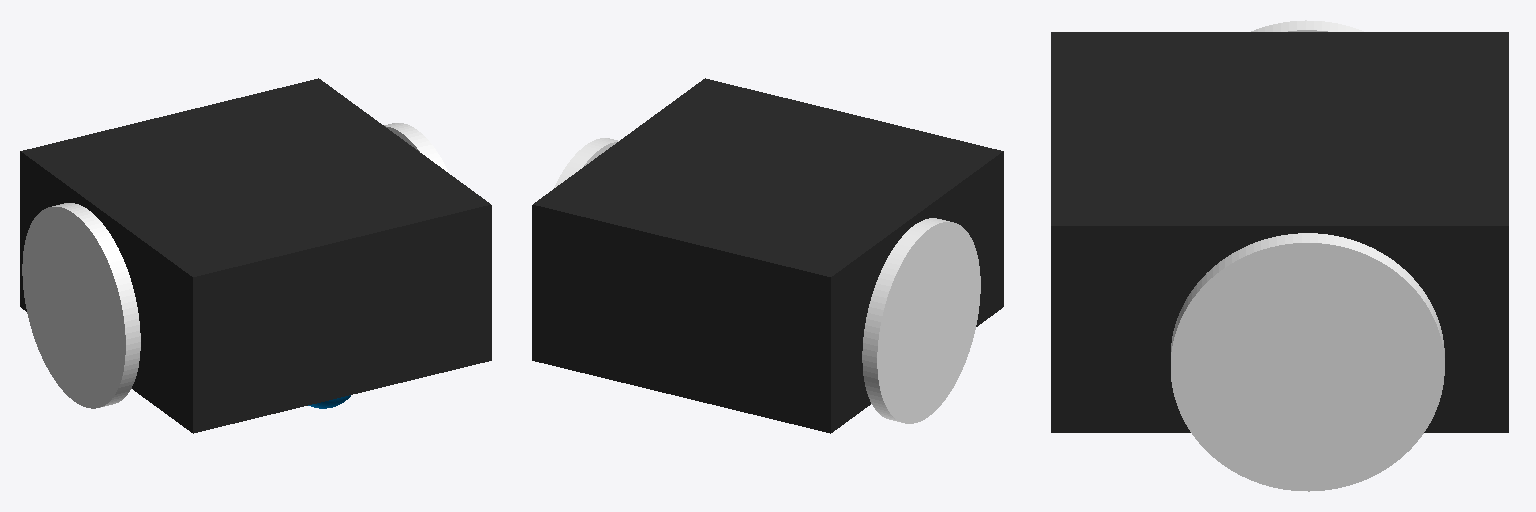
URDF robot description (bot_description):
<?xml version="1.0"?>

<robot name="bot_description">


    <link name="base_footprint"/>
    <link name="base">
      <inertial>
        <mass value="2" />
        <origin xyz="0 0 0.04" rpy="0 0 0" />
        <inertia ixx="0.00355" iyy="0.01265" izz="0.013832" ixy="0.0" ixz="0.0" iyz="0.0" />
      </inertial>

      <visual>
        <geometry>
            <mesh filename="package://bot_description/meshes/base_link.stl"/>
        </geometry>
        <material name="gray">
          <color rgba=".2 .2 .2 1" />
        </material>
      </visual>
  
      <collision>
        <geometry>
          <mesh filename="package://bot_description/meshes/base_link.stl"/>
      </geometry>
        <contact_coefficients mu="1" mu2="1" kp="1e+13.0" kd="1.0"/>
      </collision>


    </link>
   <joint name="base_joint" type="fixed">
      <parent link="base_footprint"/>
      <child link="base"/>
      <origin rpy="0 0 0" xyz="0 0 0"/>
    </joint>


 <link name="wheel_right">
    <inertial>
      <mass value="0.75"/>
      <inertia ixx="0.001444223" iyy="0.00280875" izz="0.001444223" ixy="0.0" ixz="0.0" iyz="0.0"/>
      <origin/>
    </inertial>
  
      <visual>
        
        <geometry>
            <mesh filename="package://bot_description/meshes/wheel_r.stl"/>
        </geometry>

        <material name="white">
          <color rgba="1 1 1 1"/>
        </material>
      </visual>
  
      <collision>
        <geometry>
            <mesh filename="package://bot_description/meshes/wheel_r.stl"/>
        </geometry>
        <contact_coefficients mu="0" kp="1000.0" kd="1.0"/>
      </collision>

    </link>
  
    <joint name="wheel_right_joint" type="continuous">
      <origin xyz="-0.11 0.03 0.035  " rpy="0 0.0 0.0"/>
      <parent link="base"/>
      <child link="wheel_right"/>
      <axis xyz="0.0 -1.0 0"/>
    </joint>
  
    <link name="wheel_left">
      <inertial>
        <mass value="0.75"/>
        <inertia ixx="0.001444223" iyy="0.00280875" izz="0.001444223" ixy="0.0" ixz="0.0" iyz="0.0" />
        <origin/>
      </inertial>
  
      <visual>
        
        <geometry>
            <mesh filename="package://bot_description/meshes/wheel_l.stl"/>
        </geometry>
        
        <material name="white">
          <color rgba="1 1 1 1"/>
        </material>
      </visual>
  
      <collision>
        <geometry>
            <mesh filename="package://bot_description/meshes/wheel_l.stl"/>
        </geometry>
        <contact_coefficients mu="0" kp="1000.0" kd="1.0"/>
      </collision>
    </link>
  
    <joint name="wheel_left_joint" type="continuous">
      <origin xyz="0.11 0.03 0.035" rpy="0 0.0 3.14"/>
      <parent link="base"/>
      <child link="wheel_left"/>
      <axis xyz="0.0 1 0"/>
  
    </joint>
  
  
    <link name="caster">

      <inertial>
        <mass value="0.75"/>
        <inertia ixx="0.0001295" iyy="0.0001295" izz="0.000199322" ixy="0.0" ixz="0.0" iyz="0.0" />
        <origin/>
      </inertial>
  
      <visual>
        <geometry>
          <mesh filename="package://bot_description/meshes/front_caster.stl"/>
      </geometry>
        <material name="black" />
      </visual>
  
      <collision>
        <geometry>
          <mesh filename="package://bot_description/meshes/front_caster.stl"/>
      </geometry>
        <contact_coefficients mu="0" kp="1000.0" kd="1.0"/>
      </collision>
    </link>
  
    <joint name="caster_joint" type="continuous">
      <origin xyz="0 -0.06 -0.01" rpy="0.0 0.0 0.0"/>
      <axis xyz="0 0 1" />
      <parent link="base"/>
      <child link="caster"/>
    </joint>  


  <link name="camera_link">
  </link>

  <joint name="camera_joint" type="fixed">
    <origin xyz="-0.16 0.0 0.08" rpy="0 0.0 3.14"/>
    <parent link="base"/>
    <child link="camera_link"/>
    <axis xyz="0.0 0.0 1.0"/>
  
</joint>

  <link name="hokuyo_link">
  </link>

  <joint name="lidar_joint" type="fixed">
    <origin xyz="0.2 0 0.1" rpy="0 0 0"/>
    <parent link="base"/>
    <child link="hokuyo_link"/>
  </joint>




    <gazebo reference="camera_link">
        <sensor type="camera" name="Botcamera">
          <update_rate>30.0</update_rate>
          <camera name="head">
            <horizontal_fov>1.3962634</horizontal_fov>
            <image>
              <width>800</width>
              <height>800</height>
              <format>R8G8B8</format>
            </image>
            <clip>
              <near>0.02</near>
              <far>300</far>
            </clip>
            <noise>
              <type>gaussian</type>
              <mean>0.0</mean>
              <stddev>0.007</stddev>
            </noise>
          </camera>
          <plugin name="camera_controller" filename="libgazebo_ros_camera.so">
            <alwaysOn>true</alwaysOn>
            <updateRate>0.0</updateRate>
            <cameraName>/Botcamera</cameraName>
            <imageTopicName>image_raw</imageTopicName>
            <cameraInfoTopicName>camera_info</cameraInfoTopicName>
            <frameName>camera_link</frameName>
            <hackBaseline>0.07</hackBaseline>
          </plugin>
        </sensor>
        <material>Gazebo/Blue</material>
      </gazebo>

    <!-- <gazebo reference="lidar_link">
        <sensor type="ray" name="lidar_sensor">
          <pose>0 0 0 0 0 0 </pose>
          <visualize>true</visualize>
          <update_rate>10</update_rate>
          <ray>
            <scan>
             <horizontal>
              <samples>720</samples>
              <resolution>1</resolution>
              <min_angle>-3.14</min_angle>
              <max_angle>-3.14</max_angle>
             </horizontal>
            </scan>

            <range>
              <min>0.1</min>
              <max>30.0</max>
              <resolution>0.01</resolution>

            </range>
          </ray>

          <plugin name="lidar" filename="libgazebo_ros_ray_sensor.so">
          </plugin>

        </sensor>
      </gazebo> -->

  <gazebo reference="hokuyo_link">
    <sensor type="gpu_ray" name="head_hokuyo_sensor">
      <pose>0 0 0 0 0 0</pose>
      <visualize>true</visualize>
      <update_rate>40</update_rate>
      <ray>
        <scan>
          <horizontal>
            <samples>720</samples>
            <resolution>1</resolution>
            <min_angle>-1.570796</min_angle>
            <max_angle>1.570796</max_angle>
          </horizontal>
        </scan>
        <range>
          <min>0.10</min>
          <max>30.0</max>
          <resolution>0.01</resolution>
        </range>
        <noise>
          <type>gaussian</type>
          <!-- Noise parameters based on published spec for Hokuyo laser
               achieving "+-30mm" accuracy at range < 10m.  A mean of 0.0m and
               stddev of 0.01m will put 99.7% of samples within 0.03m of the true
               reading. -->
          <mean>0.0</mean>
          <stddev>0.01</stddev>
        </noise>
      </ray>
      <plugin name="gazebo_ros_head_hokuyo_controller" filename="libgazebo_ros_gpu_laser.so">
        <topicName>/rrbot/laser/scan</topicName>
        <frameName>hokuyo_link</frameName>
      </plugin>
    </sensor>
  </gazebo>




  

    <gazebo>
      <plugin filename="libgazebo_ros_diff_drive.so" name="gazebo_base_controller">
        <odometry_frame>odom</odometry_frame>
        <commandTopic>cmd_vel</commandTopic>
        <publish_odom>true</publish_odom>
        <publish_odom_tf>true</publish_odom_tf>
        <update_rate>15.0</update_rate>
        <left_joint>wheel_left_joint</left_joint>
        <right_joint>wheel_right_joint</right_joint>
        <wheel_separation>0.8</wheel_separation>
        <wheel_diameter>0.3</wheel_diameter>
        <max_wheel_acceleration>0.7</max_wheel_acceleration>
        <robotBaseFrame>base</robotBaseFrame>
  
      </plugin>
    </gazebo>


  <gazebo reference="base">
      <material>Gazebo/Black</material>
    </gazebo>
    <gazebo reference="caster">
      <material>Gazebo/White</material>
    </gazebo>
    
    <gazebo reference="wheel_right">
      <material>Gazebo/Orange</material>
    </gazebo>
    <gazebo reference="wheel_left">
      <material>Gazebo/Orange</material>
    </gazebo>  






  </robot>
  <!-- 
      <collision>
        <geometry>
            <mesh filename="package://bot_description/meshes/wheel_l.stl"/>
        </geometry>
        <contact_coefficients mu="0" kp="1000.0" kd="1.0"/>
      </collision>
    </link>
  
    <joint name="wheel_left_joint" type="continuous">
      <origin xyz="0.11 0.03 0.035" rpy="0 0.0 3.14"/>
      <parent link="base"/>
      <child link="wheel_left"/>
      <axis xyz="0.0 1 0"/>
  
    </joint>
  
  
    <link name="caster">

      <inertial>
        <mass value="0.75"/>
        <inertia ixx="0.0001295" iyy="0.0001295" izz="0.000199322" ixy="0.0" ixz="0.0" iyz="0.0" />
        <origin/>
      </inertial>
  
      <visual>
        <geometry>
          <mesh filename="package://bot_description/meshes/front_caster.stl"/>
      </geometry>
        <material name="black" />
      </visual>
  
      <collision>
        <geometry>
          <mesh filename="package://bot_description/meshes/front_caster.stl"/>
      </geometry>
        <contact_coefficients mu="0" kp="1000.0" kd="1.0"/>
      </collision>
    </link>
  
    <joint name="caster_joint" type="continuous">
      <origin xyz="0 -0.06 -0.01" rpy="0.0 0.0 0.0"/>
      <axis xyz="0 0 1" />
      <parent link="base"/>
      <child link="caster"/>
    </joint>  


  <link name="camera_link">
  </link>

  <joint name="camera_joint" type="fixed">
    <origin xyz="-0.16 0.0 0.08" rpy="0 0.0 3.14"/>
    <parent link="base"/>
    <child link="camera_link"/>
    <axis xyz="0.0 0.0 1.0"/>
  
</joint>


    <gazebo reference="camera_link">
        <sensor type="camera" name="Botcamera">
          <update_rate>30.0</update_rate>
          <camera name="head">
            <horizontal_fov>1.3962634</horizontal_fov>
            <image>
              <width>800</width>
              <height>800</height>
              <format>R8G8B8</format>
            </image>
            <clip>
              <near>0.02</near>
              <far>300</far>
            </clip>
            <noise>
              <type>gaussian</type>
              <mean>0.0</mean>
              <stddev>0.007</stddev>
            </noise>
          </camera>
          <plugin name="camera_controller" filename="libgazebo_ros_camera.so">
            <alwaysOn>true</alwaysOn>
            <updateRate>0.0</updateRate>
            <cameraName>/Botcamera</cameraName>
            <imageTopicName>image_raw</imageTopicName>
            <cameraInfoTopicName>camera_info</cameraInfoTopicName>
            <frameName>camera_link</frameName>
            <hackBaseline>0.07</hackBaseline>
          </plugin>
        </sensor>
        <material>Gazebo/Blue</material>
      </gazebo>




  

    <gazebo>
      <plugin filename="libgazebo_ros_diff_drive.so" name="gazebo_base_controller">
        <odometry_frame>odom</odometry_frame>
        <commandTopic>cmd_vel</commandTopic>
        <publish_odom>true</publish_odom>
        <publish_odom_tf>true</publish_odom_tf>
        <update_rate>15.0</update_rate>
        <left_joint>wheel_left_joint</left_joint>
        <right_joint>wheel_right_joint</right_joint>
        <wheel_separation>0.8</wheel_separation>
        <wheel_diameter>0.3</wheel_diameter>
        <max_wheel_acceleration>0.7</max_wheel_acceleration>
        <robotBaseFrame>base</robotBaseFrame>
  
      </plugin>
    </gazebo>


  <gazebo reference="base">
      <material>Gazebo/Black</material>
    </gazebo>
    <gazebo reference="caster">
      <material>Gazebo/White</material>
    </gazebo>
    
    <gazebo reference="wheel_right">
      <material>Gazebo/Orange</material>
    </gazebo>
    <gazebo reference="wheel_left">
      <material>Gazebo/Orange</material>
    </gazebo>  






  </robot> -->

--- Facts derived from the render (not from the file) ---
The picture shows the robot from 3 angles, left to right: view 1: azimuth 30°, elevation 25°; view 2: azimuth 150°, elevation 25°; view 3: azimuth 270°, elevation 25°; orthographic projection.
Robot: bot_description — 7 links, 6 joints (3 continuous, 3 fixed); root link base_footprint; default pose: every joint at zero.
Visible links, largest first — view 1: base, wheel_right, wheel_left; view 2: base, wheel_right, wheel_left; view 3: base, wheel_left, wheel_right.
Link boxes in pixels (bbox=[...]): base: bbox=[20, 78, 491, 433]; wheel_right: bbox=[22, 203, 140, 408]; wheel_left: bbox=[384, 123, 448, 172]; base: bbox=[532, 78, 1003, 433]; wheel_right: bbox=[862, 218, 980, 423]; wheel_left: bbox=[554, 138, 618, 187]; base: bbox=[1051, 32, 1508, 432]; wheel_left: bbox=[1171, 233, 1444, 491]; wheel_right: bbox=[1251, 20, 1363, 31].
Size in the robot's own frame: 0.2301 by 0.2 by 0.1211 metres.
Meshes: 4 distinct files referenced, 4 mesh visuals loaded (4 binary STL).
